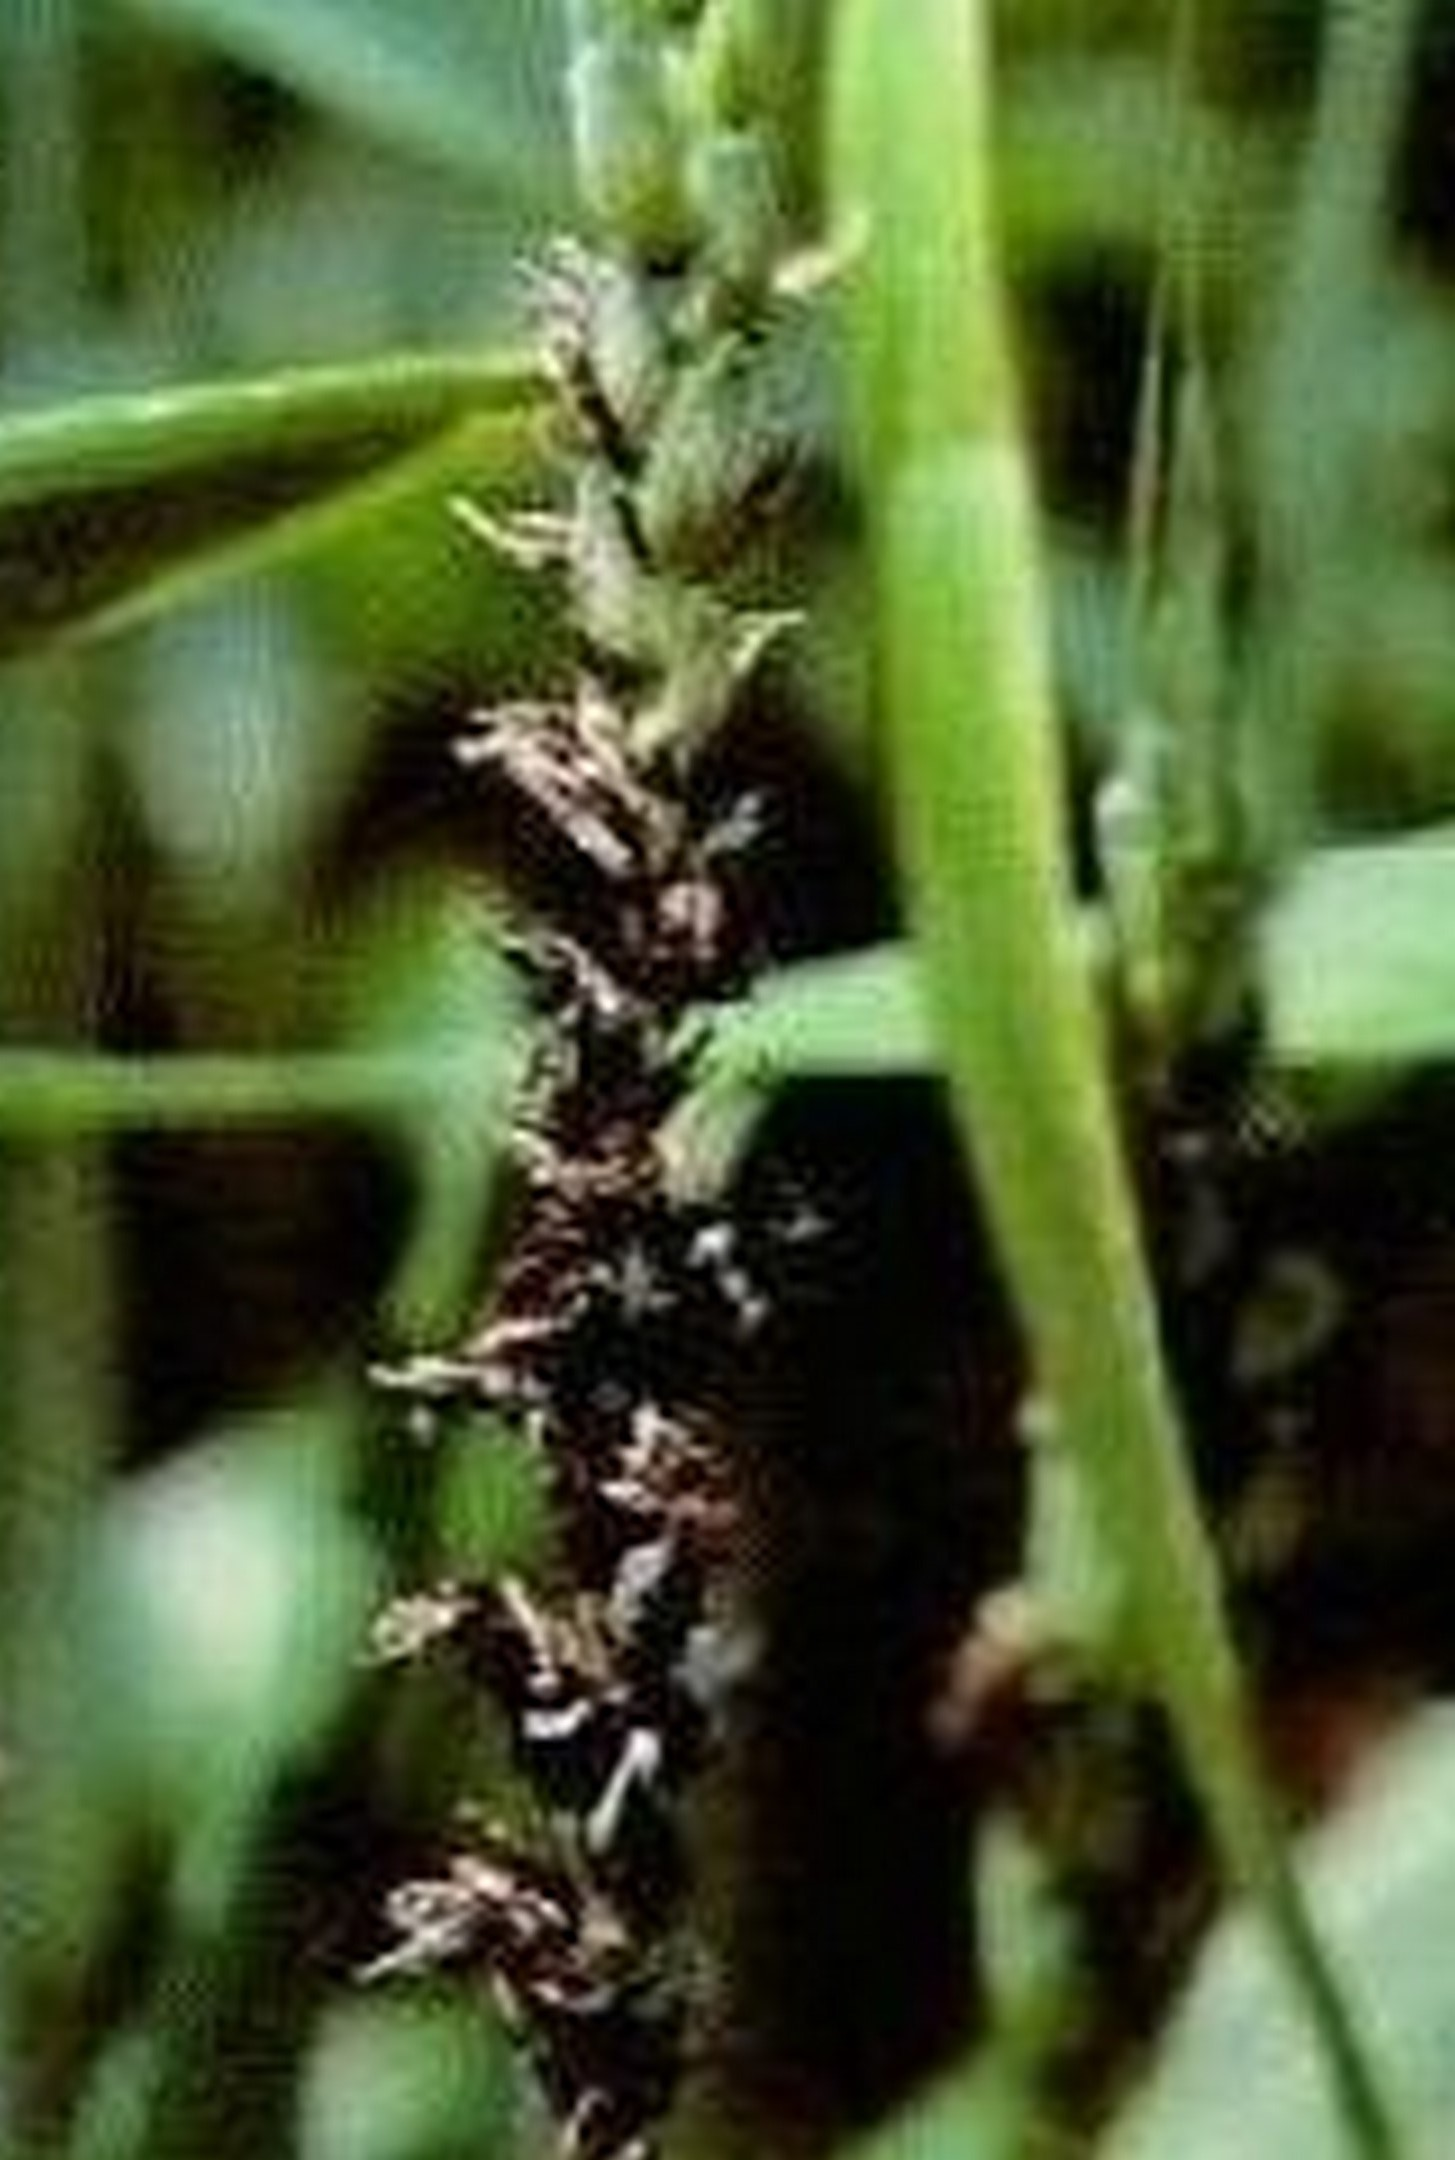Wheat Loose Smut: (375, 554, 840, 2136)
